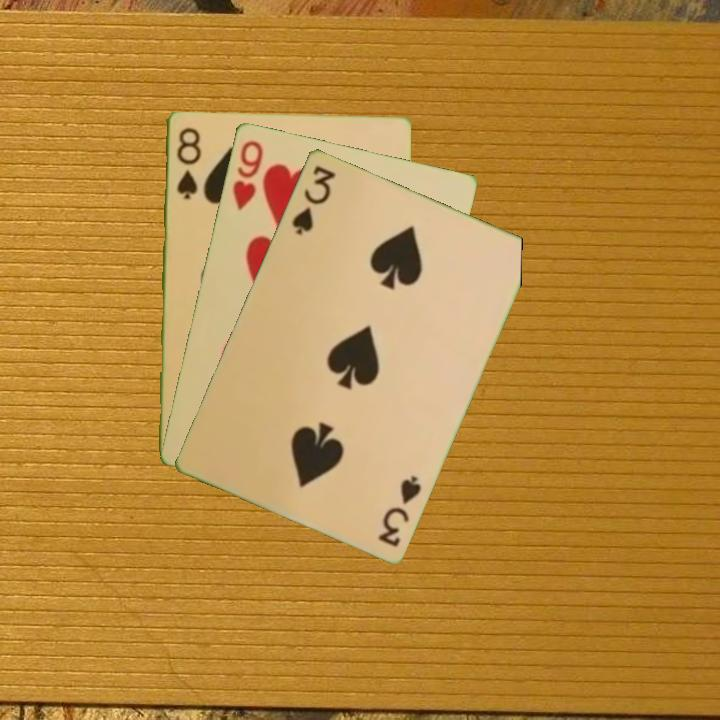3s: (374, 471, 424, 550), (288, 161, 339, 237)
8s: (173, 123, 202, 202)
9h: (229, 136, 266, 213)
